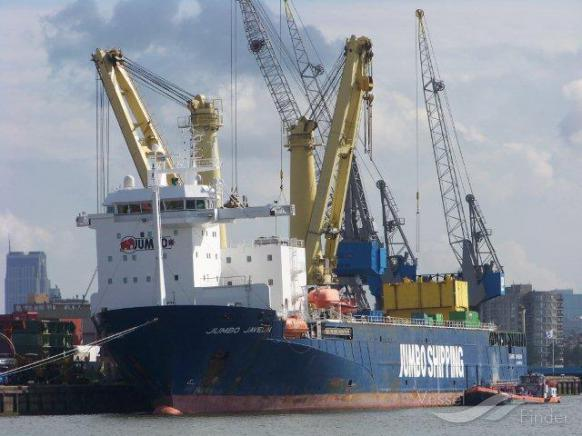OCR: (391, 339, 472, 384)
